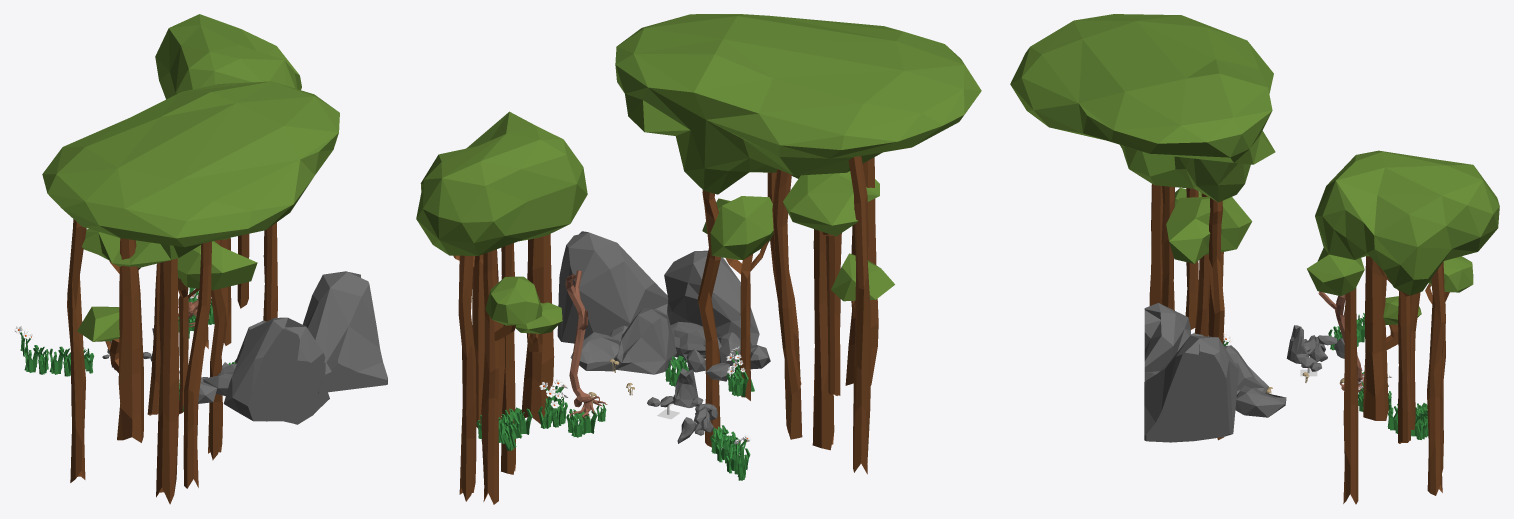
File: tree222.fbx
The picture shows the model from 3 angles, left to right: view 1: azimuth 30°, elevation 25°; view 2: azimuth 150°, elevation 25°; view 3: azimuth 270°, elevation 25°; orthographic projection. The views are drawn at different scales.
Visible parts, largest first — view 1: Mball.010, Icosphere.028, Mball.000, Icosphere.027, Cylinder.009, Cylinder.010, Cylinder.006, Cylinder.007, Cylinder.011, Cylinder.004, Cylinder.008, Cylinder.012 (+3 smaller); view 2: Mball.010, Mball.000, Icosphere.027, Cylinder.006, Icosphere.028, Cylinder.002, Cylinder.001, Cylinder.005, Cylinder.010, Icosphere.006, Cylinder.012, Mball.011 (+11 smaller); view 3: Mball.010, Mball.000, Icosphere.027, Cylinder.001, Cylinder.005, Cylinder.004, Icosphere.028, Cylinder.003, Cylinder.011, Mball.011, Cylinder.010, Cylinder.007 (+8 smaller).
Part boxes in pixels (x1,y1,x2,y2): Mball.010: (42, 81, 339, 341); Icosphere.028: (223, 317, 329, 424); Mball.000: (155, 14, 301, 99); Icosphere.027: (302, 271, 387, 393); Cylinder.009: (105, 238, 143, 442); Cylinder.010: (156, 258, 179, 504); Cylinder.006: (67, 219, 86, 482); Cylinder.007: (183, 241, 211, 488); Cylinder.011: (208, 240, 226, 460); Cylinder.004: (263, 222, 277, 321); Cylinder.008: (178, 278, 199, 414); Cylinder.012: (147, 263, 160, 415); Mball.010: (615, 14, 981, 301); Mball.000: (416, 111, 587, 255); Icosphere.027: (557, 231, 668, 343); Cylinder.006: (848, 156, 870, 474); Icosphere.028: (664, 250, 759, 362); Cylinder.002: (481, 250, 515, 504); Cylinder.001: (521, 234, 554, 423); Cylinder.005: (458, 255, 476, 501); Cylinder.010: (812, 229, 834, 450); Icosphere.006: (613, 308, 676, 374); Cylinder.012: (772, 169, 801, 394); Mball.011: (485, 276, 562, 333); Mball.010: (1010, 14, 1275, 263); Mball.000: (1307, 150, 1499, 296); Icosphere.027: (1144, 335, 1238, 442); Cylinder.001: (1363, 256, 1398, 420); Cylinder.005: (1427, 264, 1445, 495); Cylinder.004: (1343, 287, 1358, 504); Icosphere.028: (1144, 303, 1190, 381); Cylinder.003: (1376, 263, 1417, 443); Cylinder.011: (1209, 198, 1224, 440); Mball.011: (1383, 256, 1473, 324); Cylinder.010: (1150, 184, 1163, 305); Cylinder.007: (1161, 186, 1174, 309).
Size of the model in its own units: 2467 by 2407 by 2882.
